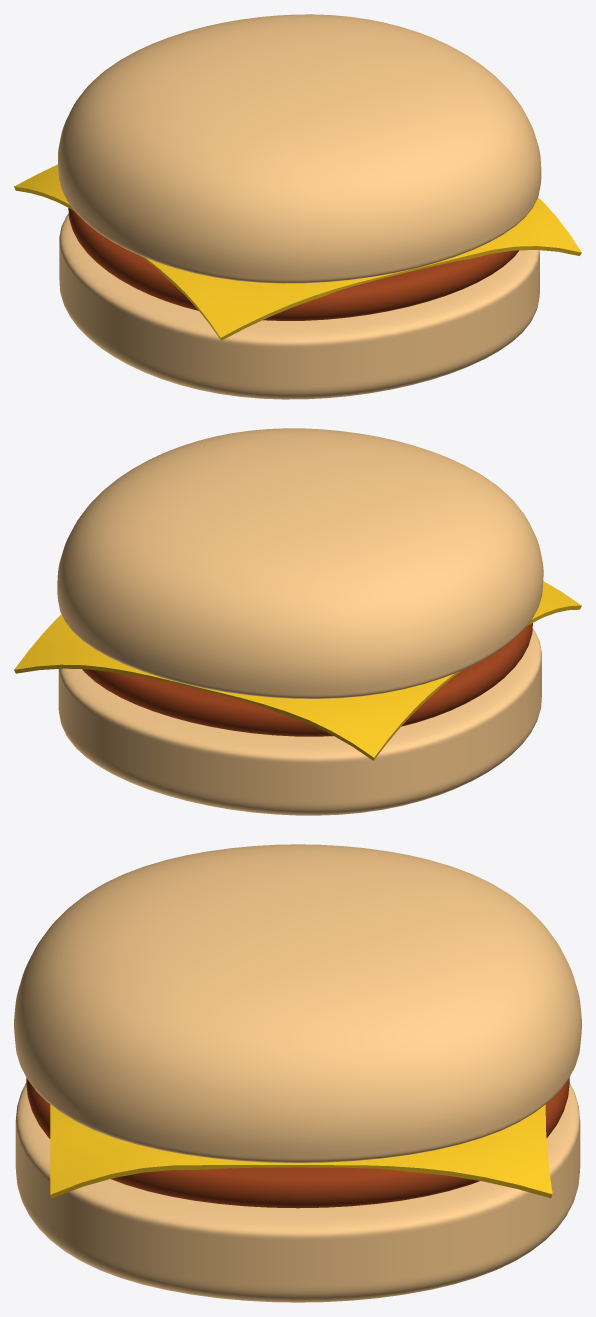
File: hamburger.glb
3 renders of one model, top to bottom at view 1: azimuth 30°, elevation 25°; view 2: azimuth 150°, elevation 25°; view 3: azimuth 270°, elevation 25°, orthographic. The views are drawn at different scales.
Parts seen in each view (by area): view 1: Cube.002, Cube, Plane, Cube.001; view 2: Cube.002, Cube, Plane, Cube.001; view 3: Cube.002, Cube, Plane, Cube.001.
Boxes of the visible parts, bbox=[...] form: Cube.002: bbox=[58, 14, 541, 283]; Cube: bbox=[59, 214, 539, 399]; Plane: bbox=[14, 164, 581, 340]; Cube.001: bbox=[68, 208, 519, 320]; Cube.002: bbox=[57, 428, 543, 698]; Cube: bbox=[58, 629, 541, 815]; Plane: bbox=[14, 581, 581, 760]; Cube.001: bbox=[82, 623, 532, 736]; Cube.002: bbox=[14, 844, 581, 1162]; Cube: bbox=[15, 1083, 580, 1302]; Plane: bbox=[50, 1104, 552, 1198]; Cube.001: bbox=[26, 1078, 569, 1208].
Bounding box in the file's own units: 9.04 × 5.26 × 9.04.
